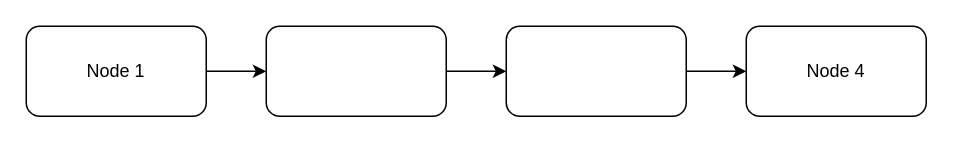
Image size: 953x143. Some labels were removed from this diagram. Here are the shapes that lost their labels. From the top down, the box of each, then its label:
(265, 25, 446, 116): Node 2
(505, 25, 686, 116): Node 3
